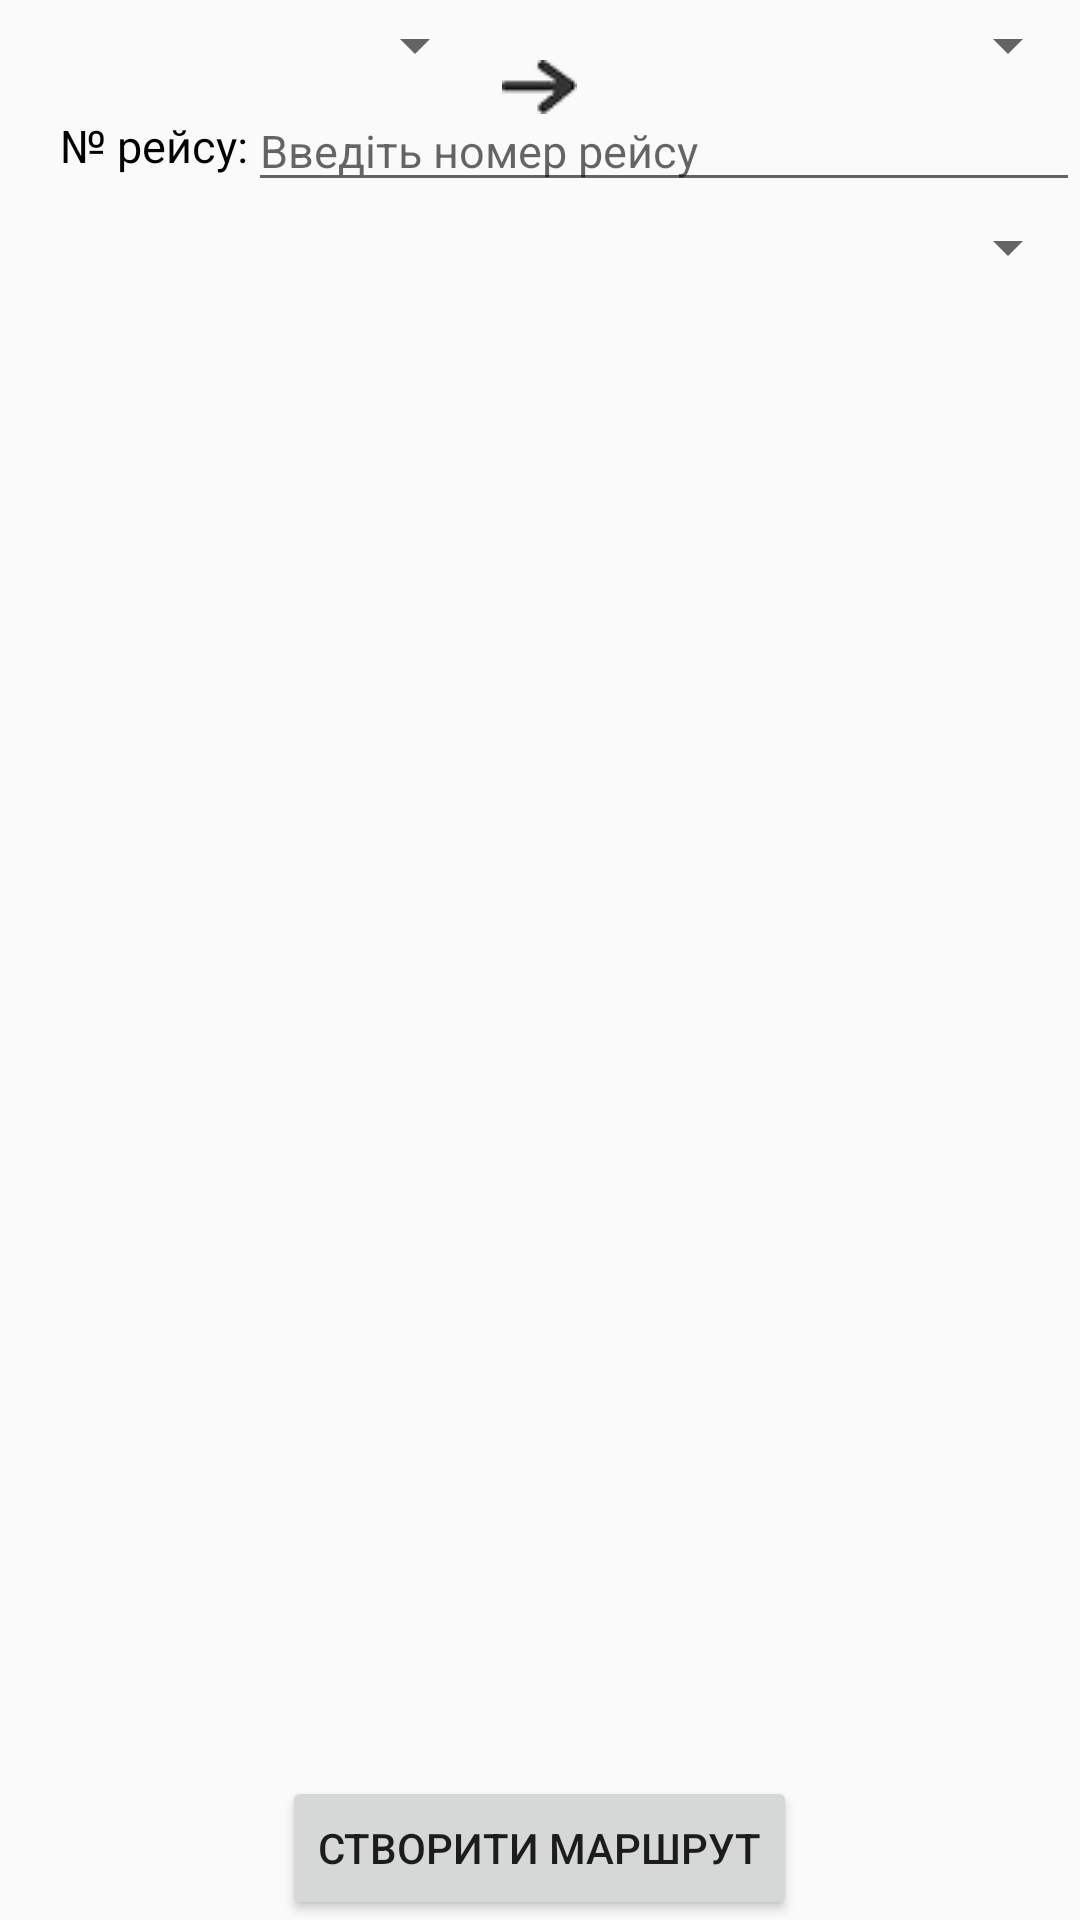

Locate icon controls on the screen. Image size 1080 × 1920, boxes as [left=x1, top=y1, right=x2, bottom=y2].
arrow right: [left=502, top=60, right=577, bottom=114]
